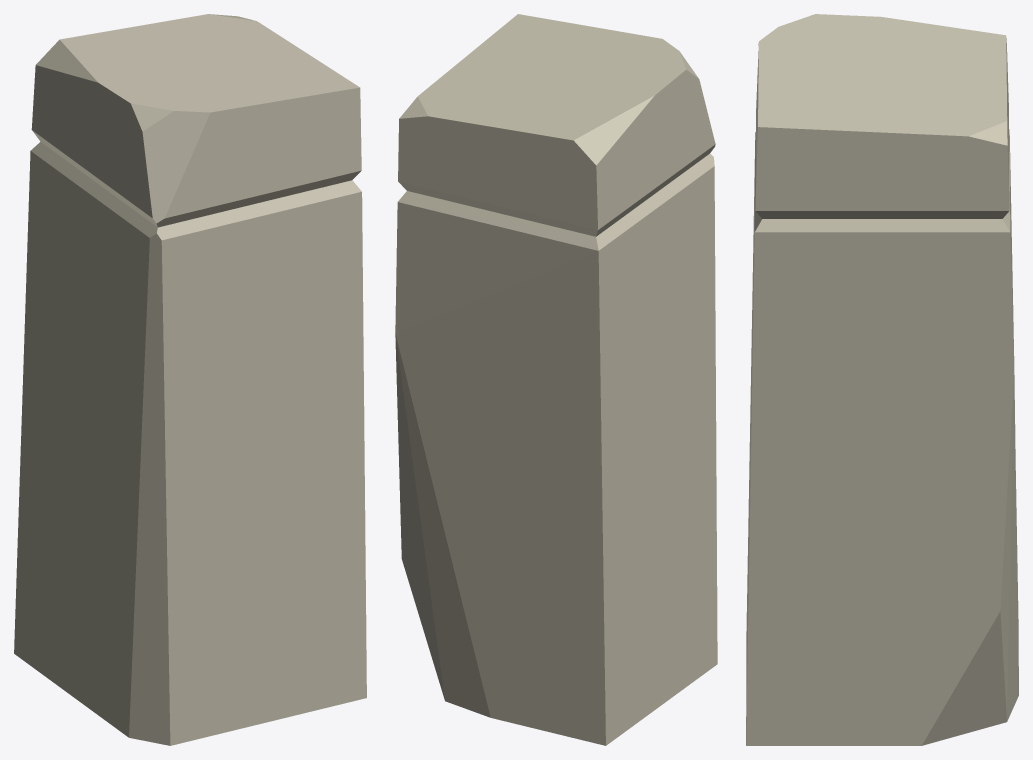
File: Rock_Square_l_14.fbx
3 renders of one model, left to right at view 1: azimuth 30°, elevation 25°; view 2: azimuth 150°, elevation 25°; view 3: azimuth 270°, elevation 25°, orthographic. The views are drawn at different scales.
Parts seen in each view (by area): view 1: Rock_Square_l_14; view 2: Rock_Square_l_14; view 3: Rock_Square_l_14.
Part boxes in pixels (x1,y1,x2,y2): Rock_Square_l_14: (14,14,366,745); Rock_Square_l_14: (395,14,717,745); Rock_Square_l_14: (746,14,1018,745).
Size of the model in its own units: 138 by 371 by 145.
